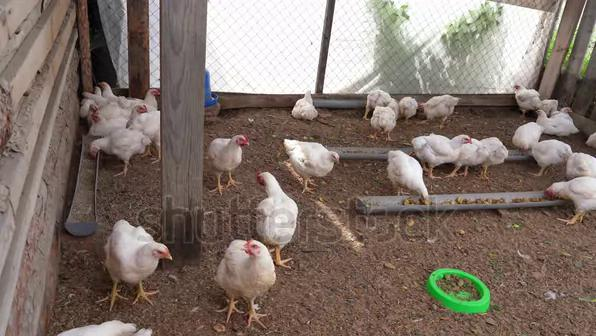Pollos: (104, 219, 171, 285), (217, 237, 276, 299), (253, 171, 298, 239), (281, 137, 340, 176), (385, 150, 433, 197), (86, 128, 148, 160), (544, 176, 596, 210), (210, 133, 249, 175), (415, 133, 471, 158), (537, 109, 582, 136), (526, 143, 573, 165), (370, 99, 398, 133), (129, 106, 159, 135), (292, 90, 321, 118), (419, 96, 457, 116), (89, 111, 128, 129), (510, 82, 537, 106)
